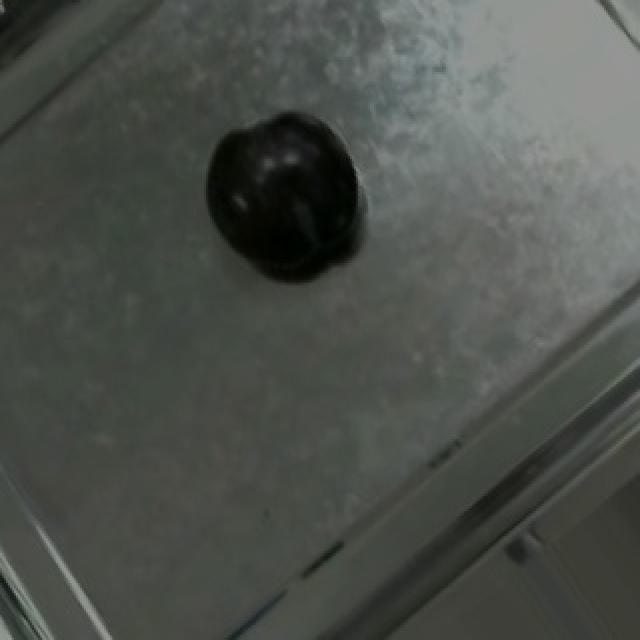Fruit: (186, 97, 380, 295)
